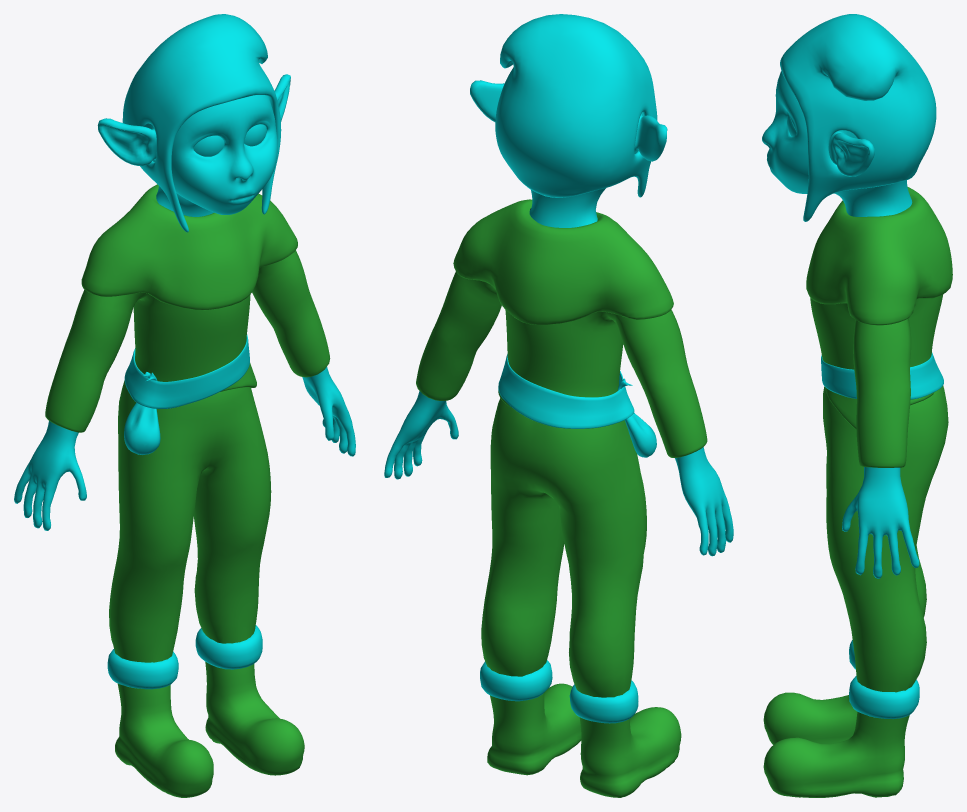
The model's file is SM_Player_Character.fbx.
3 renders of one model, left to right at view 1: azimuth 30°, elevation 25°; view 2: azimuth 150°, elevation 25°; view 3: azimuth 270°, elevation 25°, orthographic. The views are drawn at different scales.
Parts seen in each view (by area): view 1: trousers_low, top_low, body_low, shaul_low, hat_low, boot_right, boot_left, belt_low, boot_right_cuff_low, boot_left_cuff_low, pouch_low; view 2: trousers_low, hat_low, top_low, shaul_low, body_low, boot_right, boot_left, belt_low, boot_left_cuff_low, boot_right_cuff_low, pouch_low; view 3: hat_low, trousers_low, shaul_low, top_low, body_low, boot_left, boot_right, belt_low, boot_left_cuff_low.
Boxes of the visible parts, bbox=[...] form: trousers_low: bbox=[109, 380, 271, 662]; top_low: bbox=[45, 250, 330, 432]; body_low: bbox=[14, 74, 355, 530]; shaul_low: bbox=[81, 184, 297, 310]; hat_low: bbox=[122, 14, 281, 232]; boot_right: bbox=[115, 683, 213, 797]; boot_left: bbox=[205, 662, 304, 775]; belt_low: bbox=[124, 334, 249, 408]; boot_right_cuff_low: bbox=[107, 649, 178, 689]; boot_left_cuff_low: bbox=[195, 625, 262, 669]; pouch_low: bbox=[124, 372, 160, 454]; trousers_low: bbox=[481, 398, 646, 697]; hat_low: bbox=[495, 14, 657, 197]; top_low: bbox=[416, 271, 707, 457]; shaul_low: bbox=[453, 199, 673, 324]; body_low: bbox=[384, 80, 733, 556]; boot_right: bbox=[579, 707, 681, 797]; boot_left: bbox=[487, 683, 581, 775]; belt_low: bbox=[498, 354, 634, 428]; boot_left_cuff_low: bbox=[480, 660, 552, 701]; boot_right_cuff_low: bbox=[569, 680, 638, 723]; pouch_low: bbox=[618, 378, 656, 457]; hat_low: bbox=[780, 14, 936, 221]; trousers_low: bbox=[823, 385, 948, 692]; shaul_low: bbox=[806, 186, 952, 325]; top_low: bbox=[810, 294, 943, 467]; body_low: bbox=[762, 71, 919, 578]; boot_left: bbox=[763, 711, 909, 797]; boot_right: bbox=[763, 692, 857, 744]; belt_low: bbox=[821, 352, 943, 399]; boot_left_cuff_low: bbox=[849, 675, 919, 719].
Bounding box in the file's own units: 4.69 × 10.42 × 2.4.
